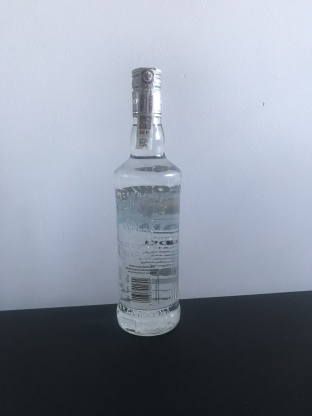nakretka: (128, 63, 164, 121)
